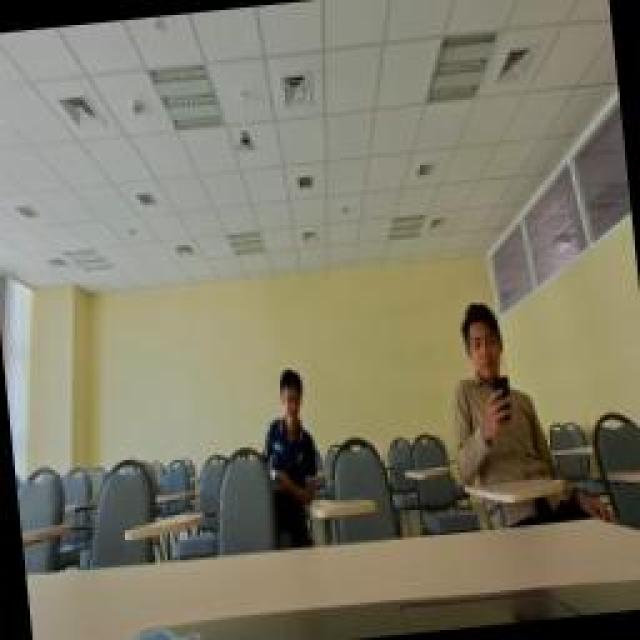phone: (432, 293, 552, 485)
study: (250, 350, 322, 508)
